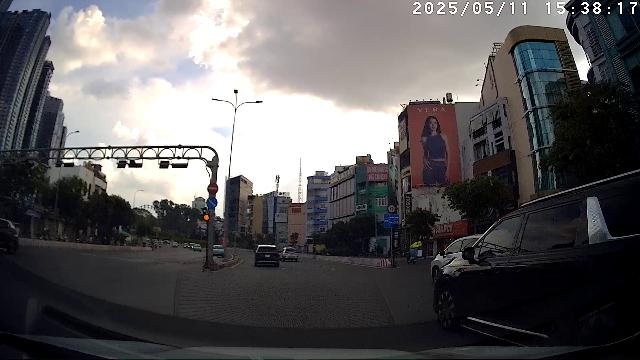102-cam-di-nguoc-chieu: (207, 183, 218, 195)
127-toc-do-toi-da-70: (387, 204, 396, 214)
302a-huong-phai-di-vong-chuong-ngai-vat-1: (206, 196, 218, 209)
